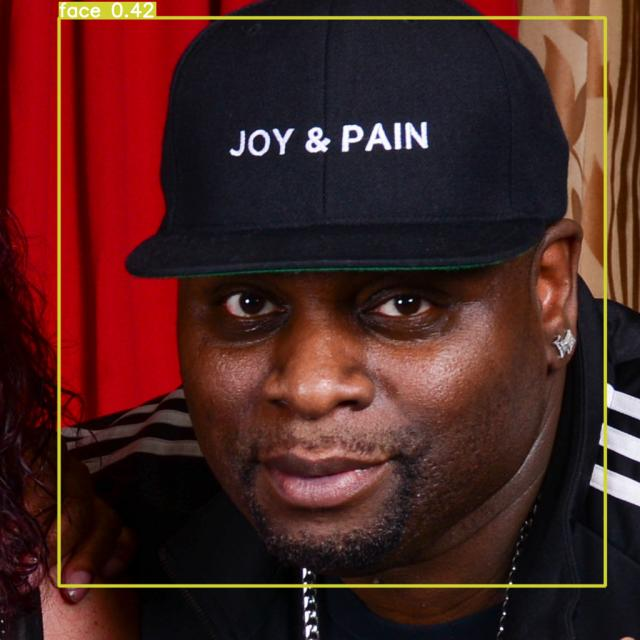Face: (59, 18, 605, 586)
